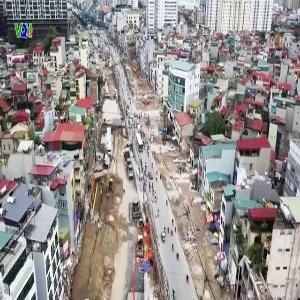drone: (60, 68, 138, 146)
